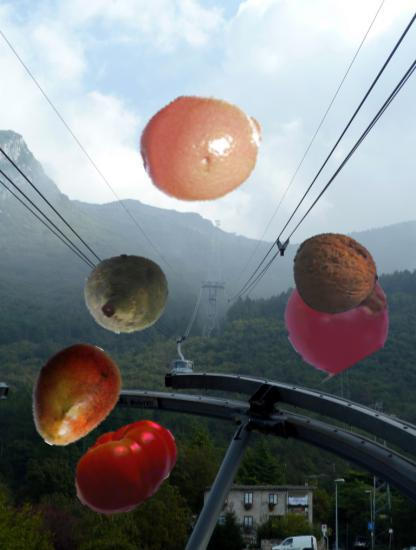Beetroot: (77, 248, 171, 342)
Cauliflower: (111, 430, 173, 492)
Mango: (19, 341, 129, 451)
Redcurrant: (284, 264, 390, 370)
Tangelo: (140, 84, 266, 210)
Tomato: (69, 410, 183, 524)
Walnut: (291, 230, 379, 318)
